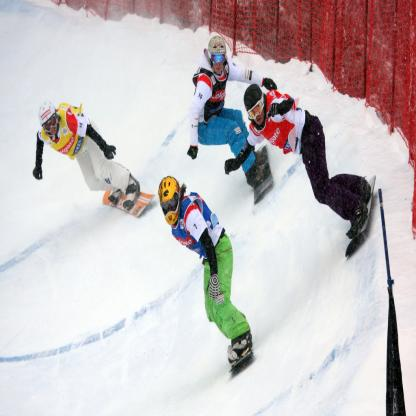Helmet: (244, 79, 274, 130), (152, 176, 181, 220), (35, 102, 63, 138), (205, 34, 227, 69)
